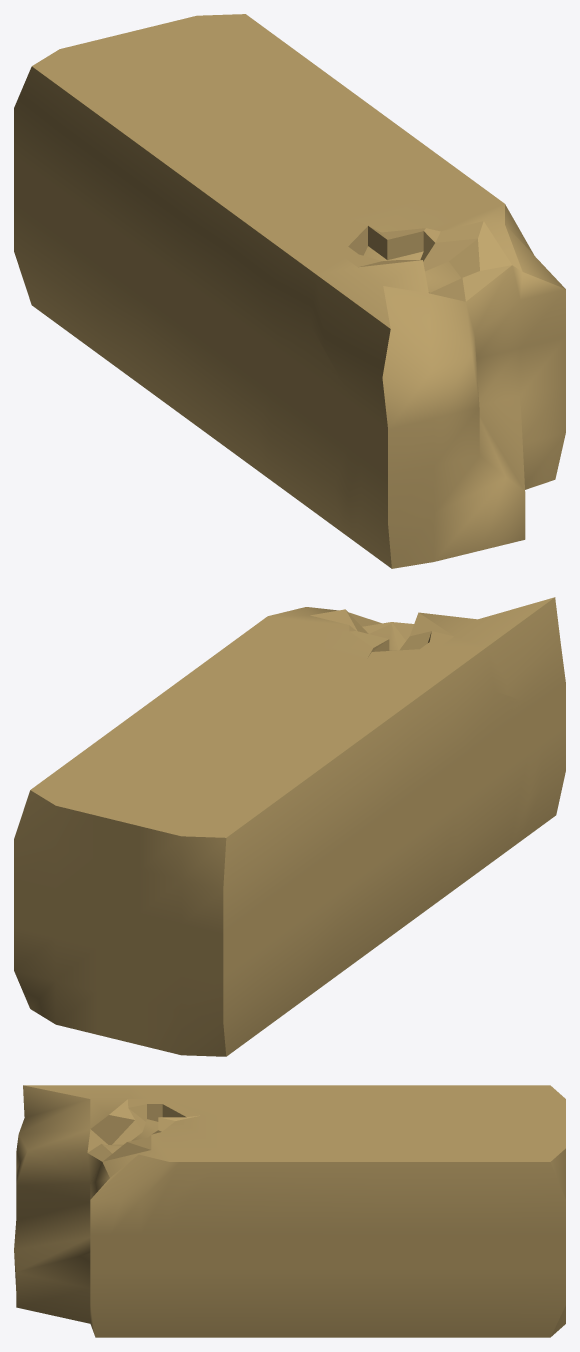
File: cracked brick 3.fbx
3 views of the same model, one above another, from view 1: azimuth 30°, elevation 25°; view 2: azimuth 150°, elevation 25°; view 3: azimuth 270°, elevation 25° (orthographic). The views are drawn at different scales.
Visible parts, largest first — view 1: pCube16; view 2: pCube16; view 3: pCube16.
Boxes of the visible parts, x1,y1,x2,y2 form: pCube16: [14, 14, 565, 568]; pCube16: [14, 597, 565, 1056]; pCube16: [14, 1085, 565, 1337].
Size of the model in its own units: 0.714 by 0.7258 by 2.03.
